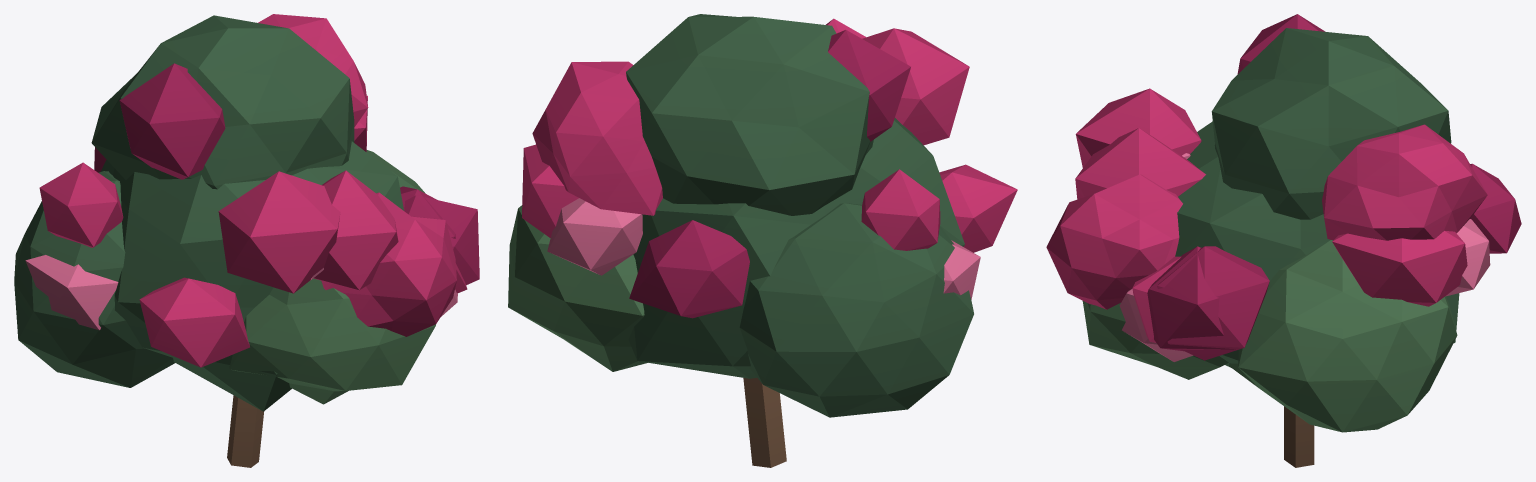
Rendered from bougainvillea_bush.glb.
The picture shows the model from 3 angles, left to right: view 1: azimuth 30°, elevation 25°; view 2: azimuth 150°, elevation 25°; view 3: azimuth 270°, elevation 25°; orthographic projection. The views are drawn at different scales.
Visible parts, largest first — view 1: bougainvillea_bush.001; view 2: bougainvillea_bush.001; view 3: bougainvillea_bush.001.
Boxes of the visible parts, box(x1,y1,x2,y2) form: bougainvillea_bush.001: box(14, 14, 479, 467); bougainvillea_bush.001: box(508, 14, 1017, 467); bougainvillea_bush.001: box(1046, 14, 1521, 467).
Size of the model in its own units: 1.66 by 1.66 by 1.7.
1 material, 1 textured.
